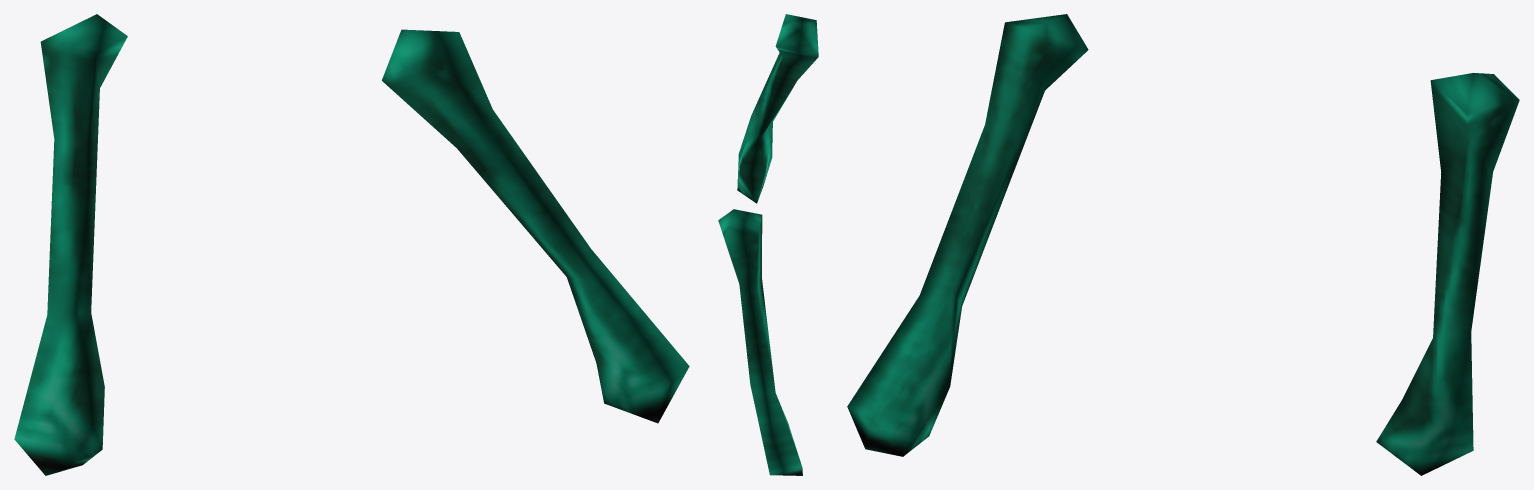
File: VIFS03.obj
3 views of the same model, side by side, from view 1: azimuth 30°, elevation 25°; view 2: azimuth 150°, elevation 25°; view 3: azimuth 270°, elevation 25° (orthographic). The views are drawn at different scales.
Visible parts, largest first — view 1: VIFS03; view 2: VIFS03; view 3: VIFS03.
Part boxes in pixels (x1,y1,x2,y2): VIFS03: (14, 14, 689, 475); VIFS03: (718, 14, 818, 475); VIFS03: (847, 14, 1519, 475).
Bounding box in the file's own units: 13.96 × 18.32 × 20.93.
